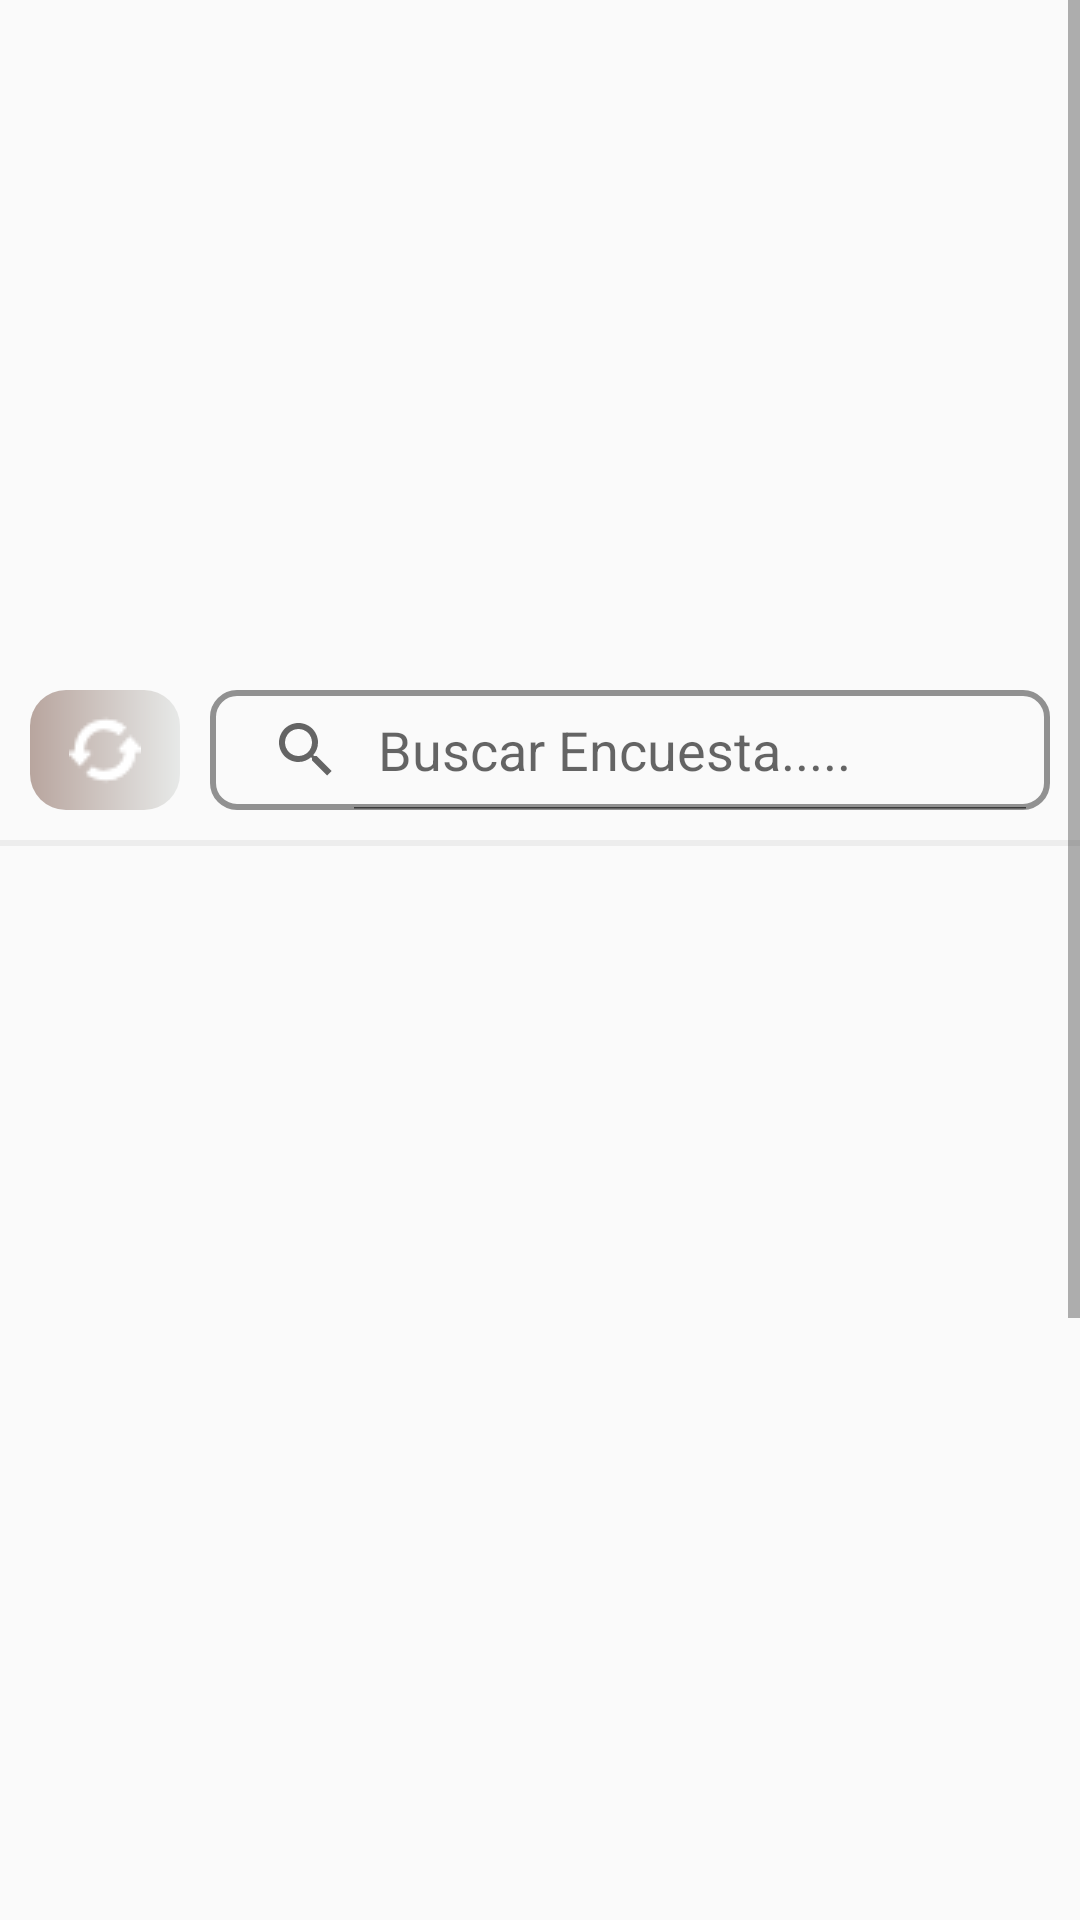

Point at icon controls on the screen. Image size 1080w x 1920h, points as [x,y].
actualizar: [98,750]
